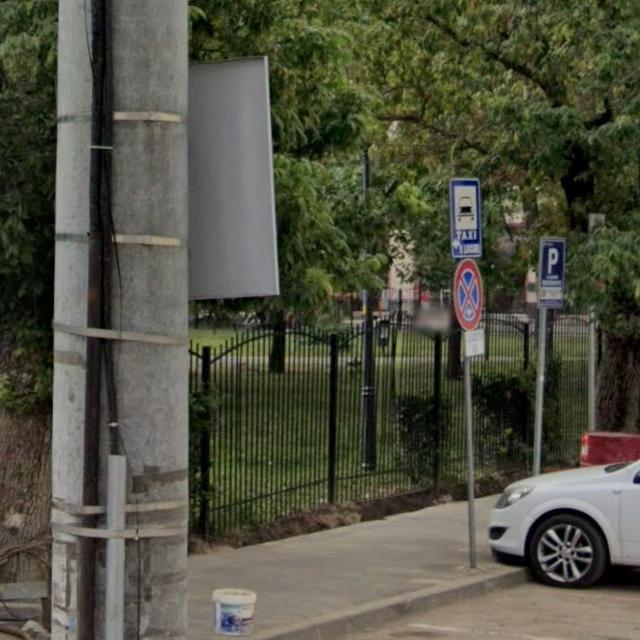forb_waiting: (453, 260, 484, 329)
